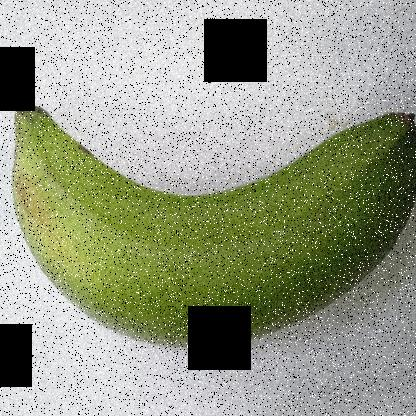freshunripe: (2, 80, 416, 360)
